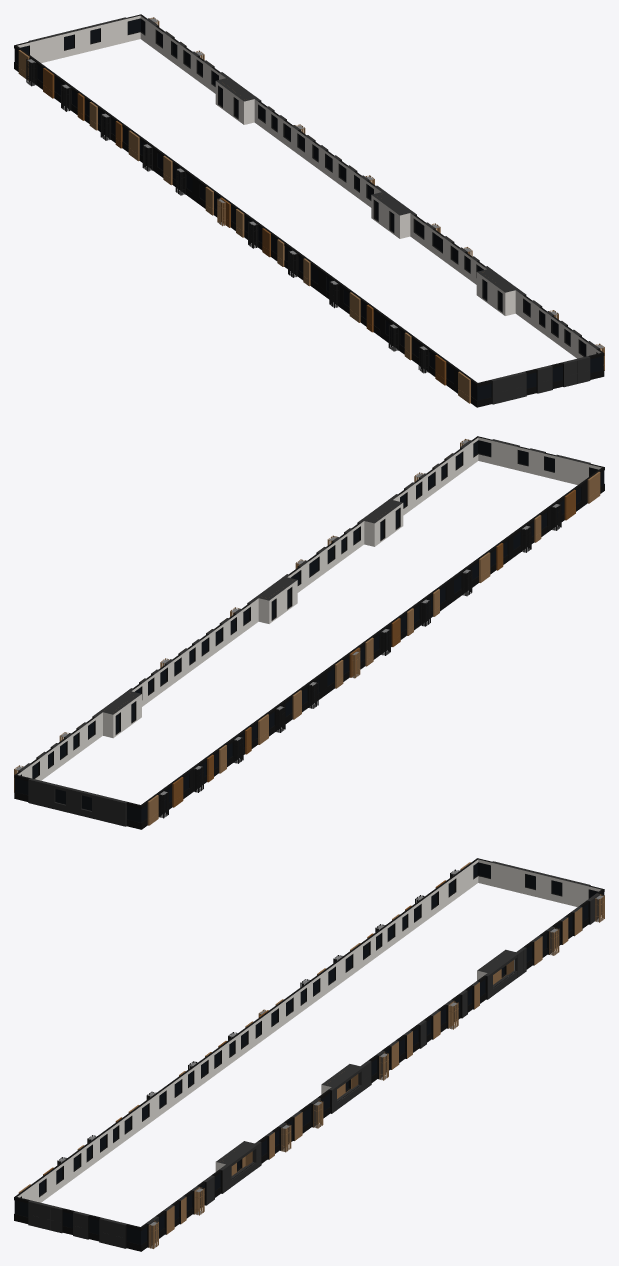
The model's file is floor_23_ext.FBX.
3 views of the same model, one above another, from view 1: azimuth 30°, elevation 25°; view 2: azimuth 150°, elevation 25°; view 3: azimuth 330°, elevation 25° (orthographic).
Parts seen in each view (by area): view 1: floor_23_ext; view 2: floor_23_ext; view 3: floor_23_ext.
Part boxes in pixels (<box>): floor_23_ext: <box>14,14,604,407</box>; floor_23_ext: <box>14,436,604,829</box>; floor_23_ext: <box>14,858,604,1251</box>.
Bounding box in the file's own units: 18.55 × 3 × 108.
